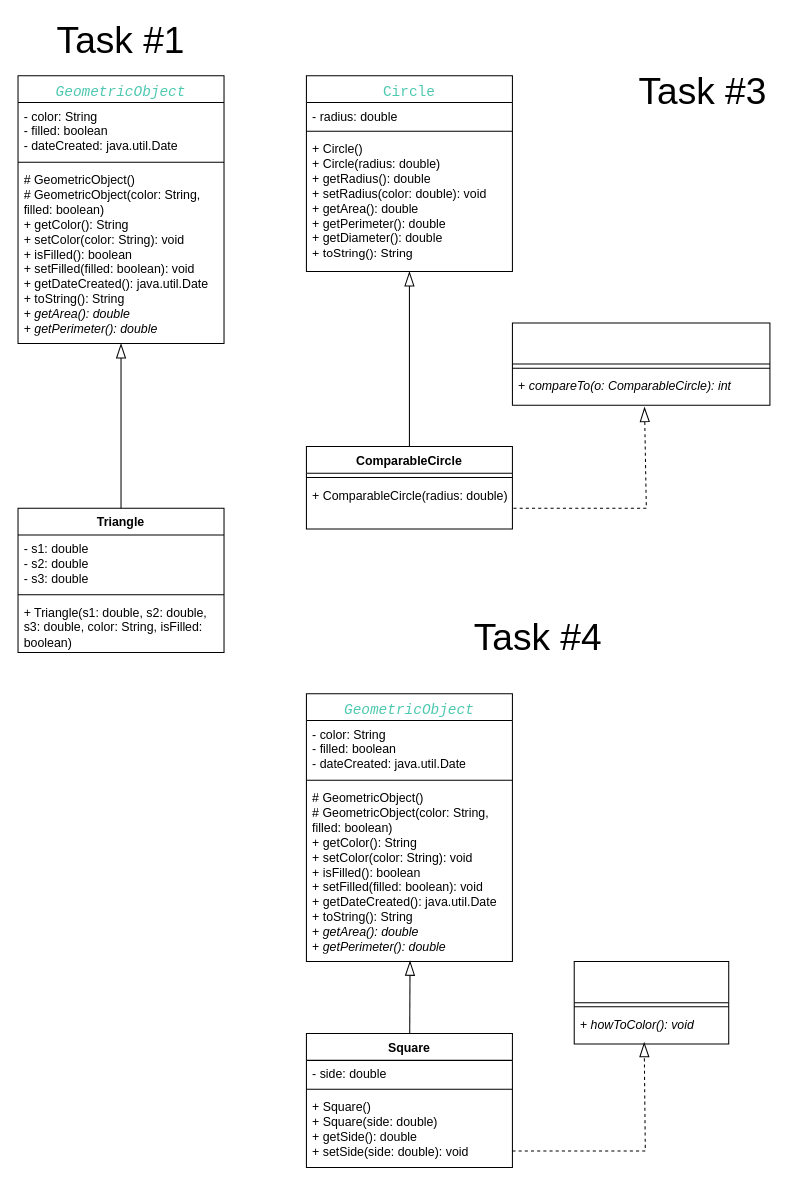
This 788x1189 diagram has some shape labels left out. The shapes that lost their labels are listed below. From the top down, each one's box as (x1, y1, x2, y2) in pixels, then its label:
(511, 322, 770, 405): <<interface>> java.util.Comparable<ComparableCircle>
(573, 960, 729, 1044): <<interface>> Colorable
